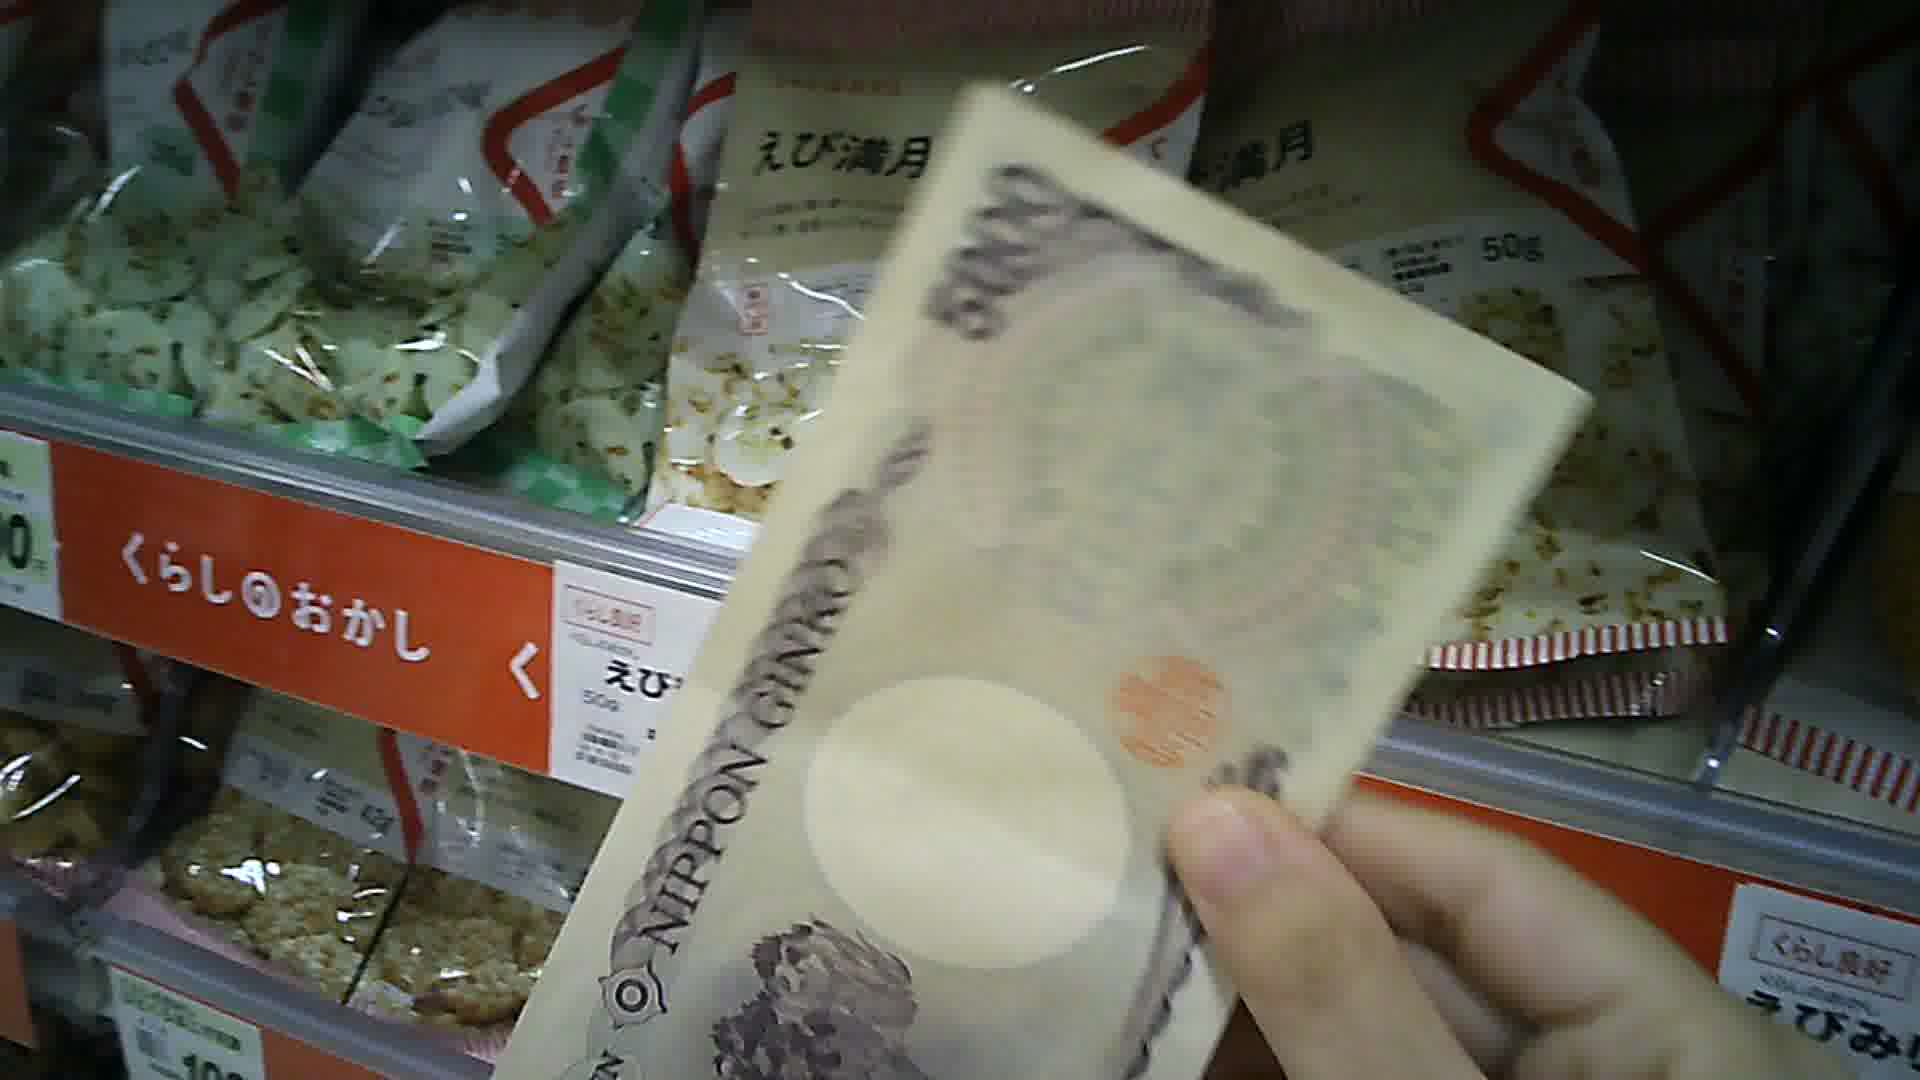5,000 Yen: (531, 73, 1548, 1073)
